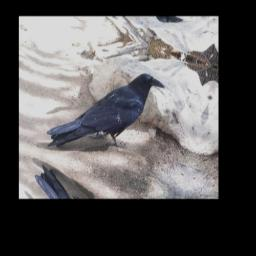Crow: (43, 48, 168, 178)
